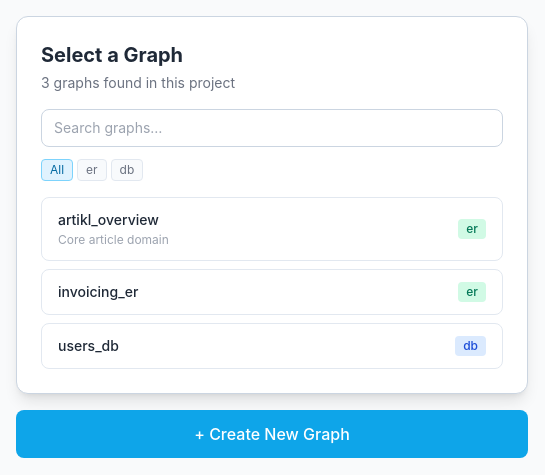
Test: <GraphPicker /> › filters by schema badge click
Step 1. Click the button "db" → click(127, 170), box [111,159,143,181]
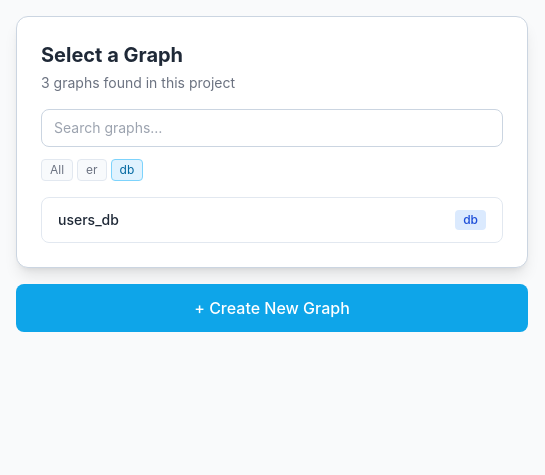
Expected: the text "users_db" is shown, [58,210,119,230]
Now the button "artikl_overview" is gone
Now the button "invoicing_er" is gone
